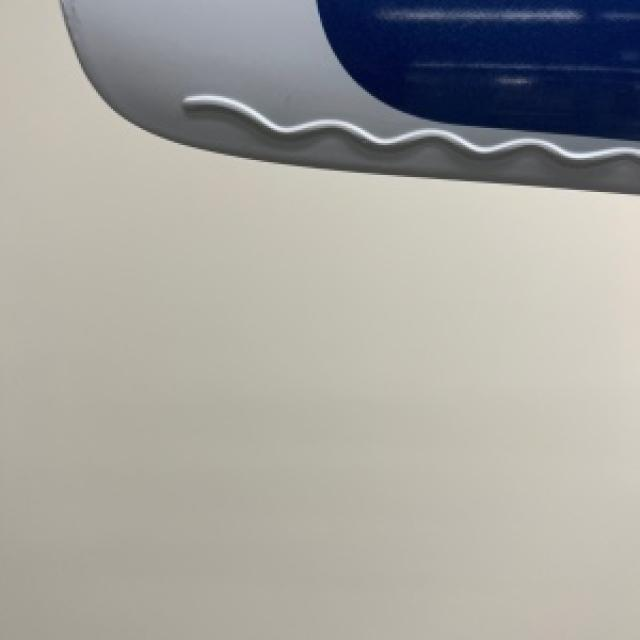healthy: (62, 0, 638, 192)
